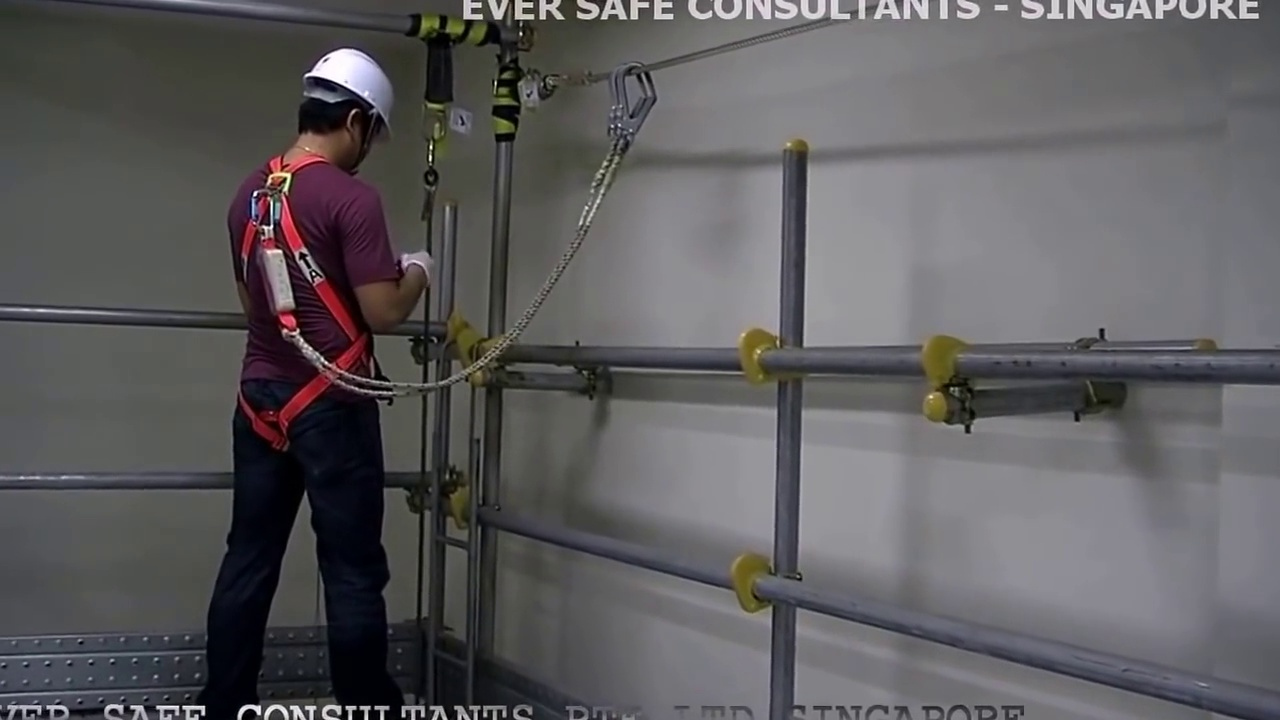harness: (241, 158, 356, 444)
helmet: (300, 46, 391, 124)
hook: (595, 62, 666, 155)
leash: (437, 178, 609, 392)
